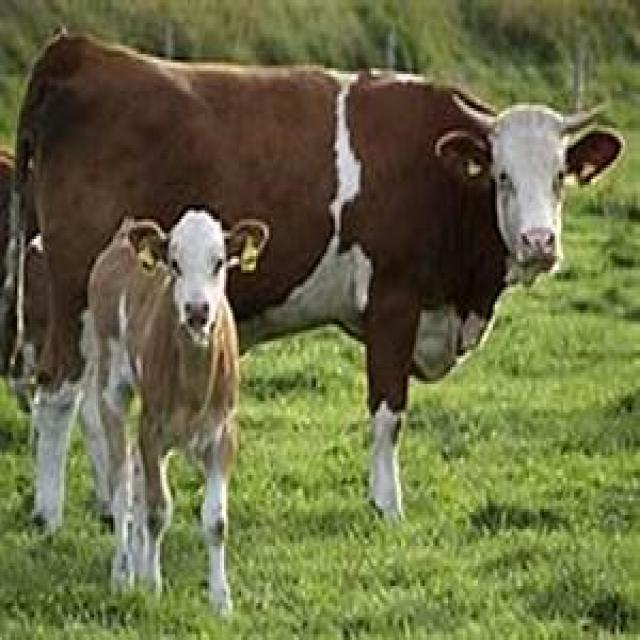cow: (0, 31, 629, 535), (79, 208, 241, 617)
